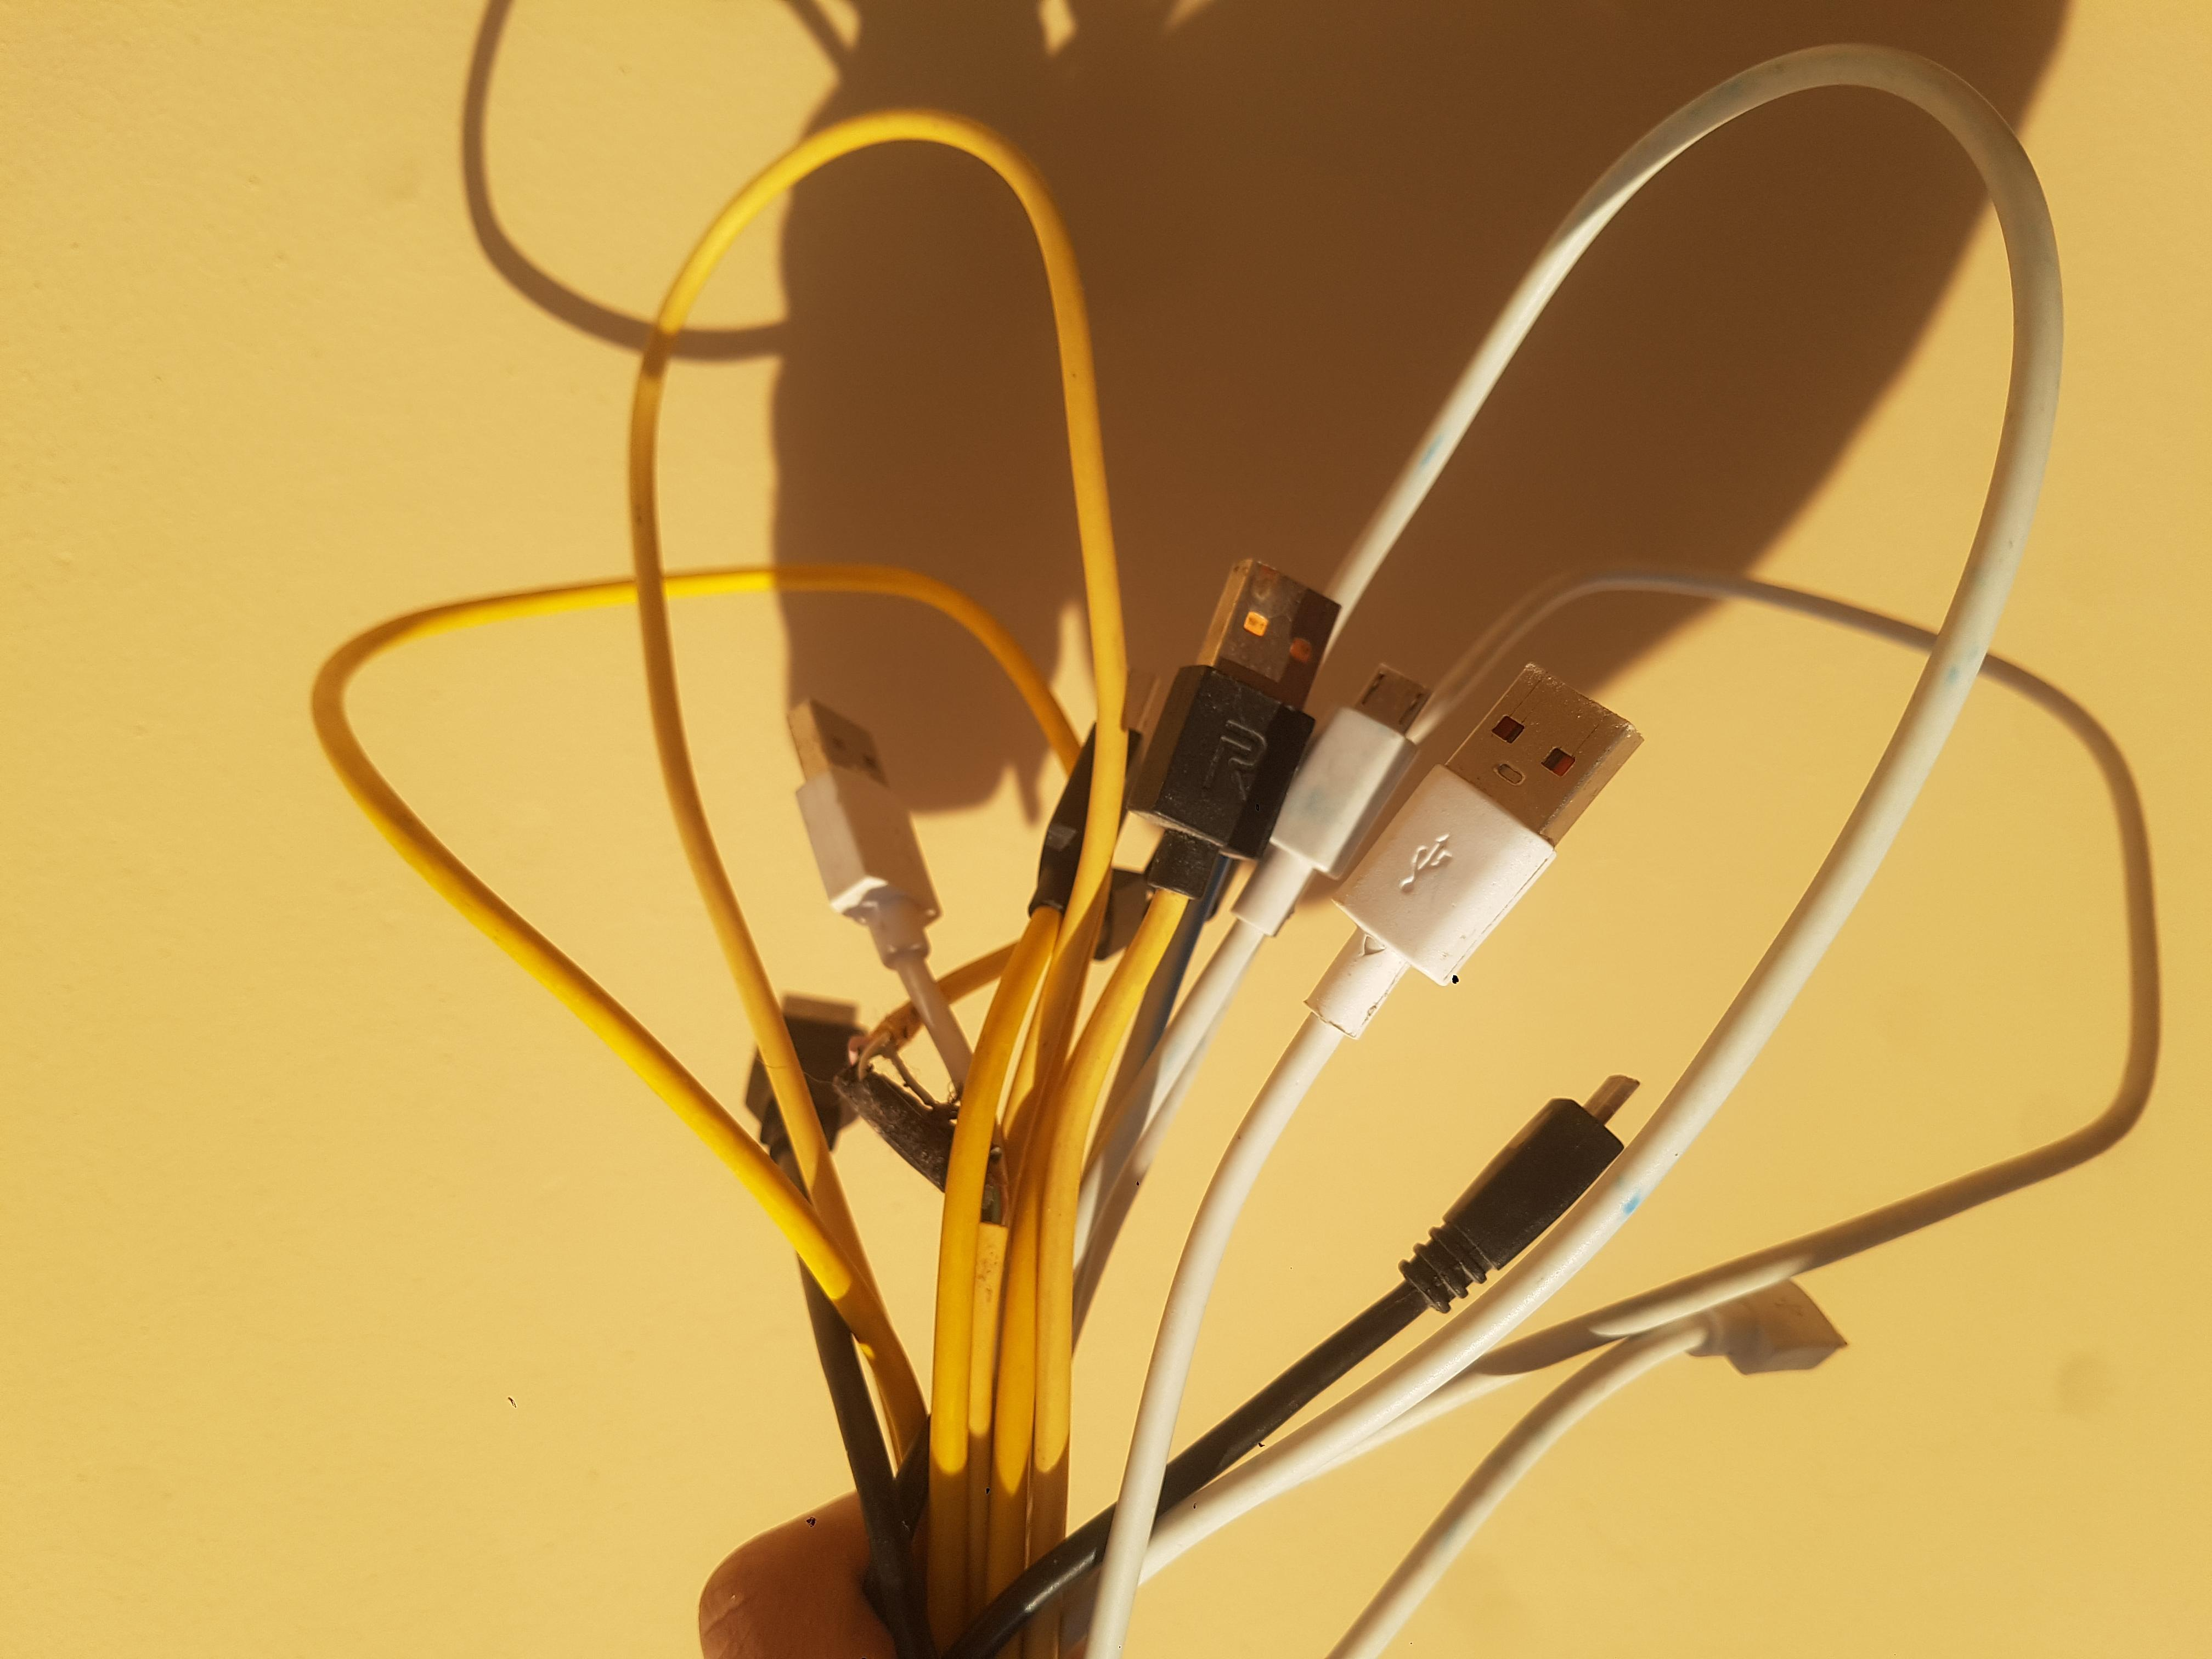electronic: (24, 239, 2107, 1596)
